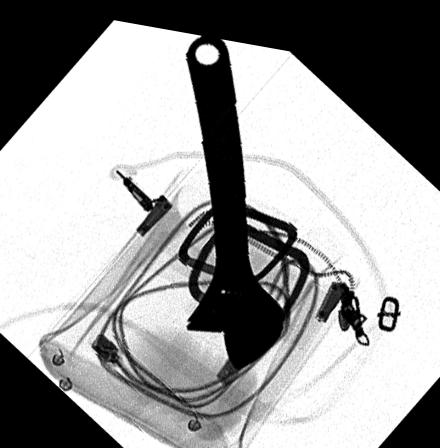Wrench: (183, 28, 284, 363)
